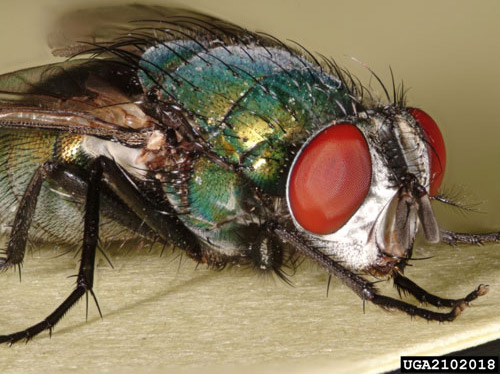green bottles flies: (7, 6, 498, 341)
